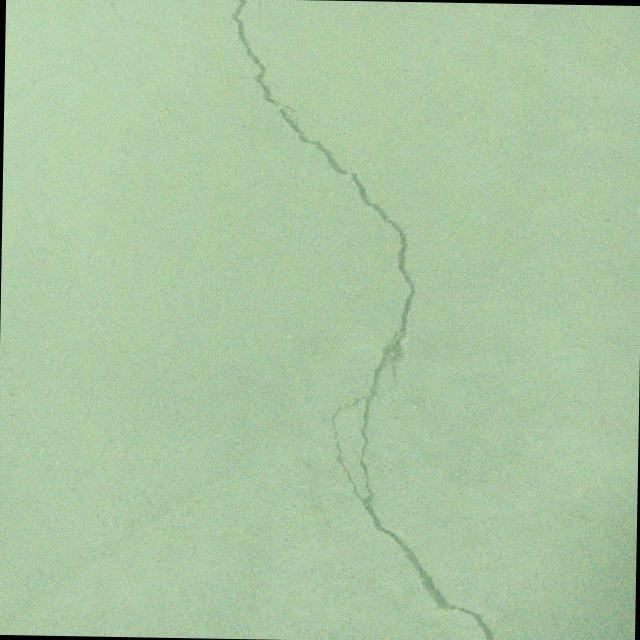crack: (220, 0, 507, 640), (103, 0, 166, 45), (255, 0, 264, 41)
